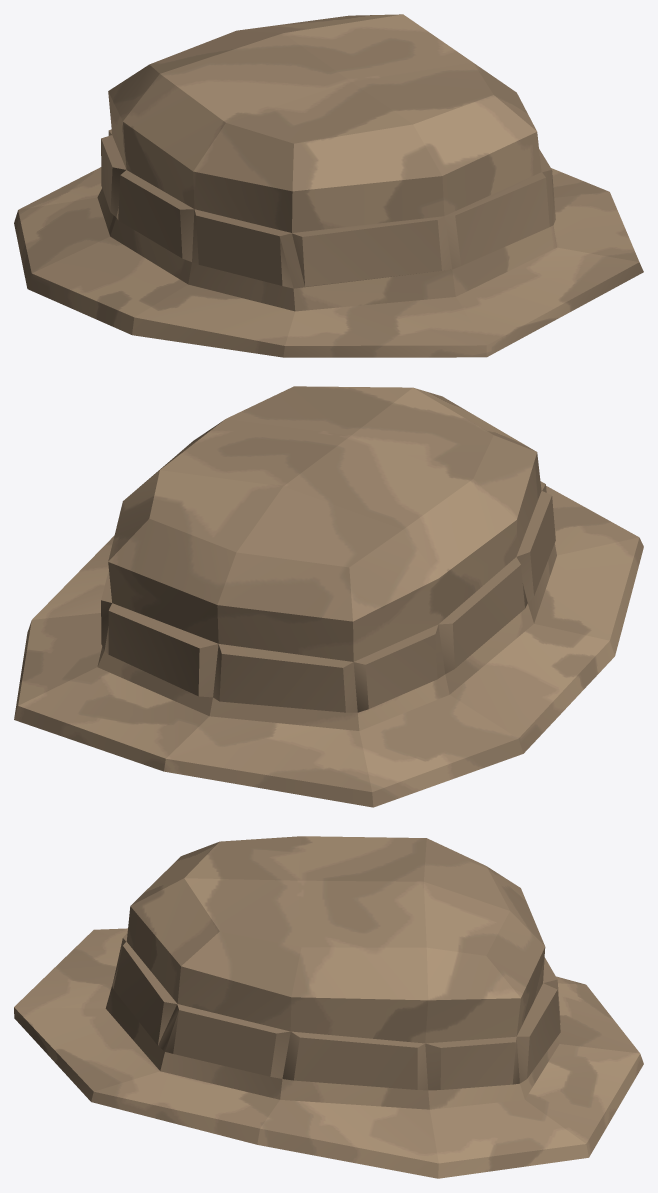
Rendered from Hat_02_SM.FBX.
The picture shows the model from 3 angles, top to bottom: view 1: azimuth 30°, elevation 25°; view 2: azimuth 150°, elevation 25°; view 3: azimuth 270°, elevation 25°; orthographic projection. The views are drawn at different scales.
Parts seen in each view (by area): view 1: Hat_02_SM; view 2: Hat_02_SM; view 3: Hat_02_SM.
Boxes of the visible parts, x1,y1,x2,y2 form: Hat_02_SM: [14, 14, 643, 357]; Hat_02_SM: [14, 386, 643, 807]; Hat_02_SM: [14, 836, 643, 1178].
Size of what is drawn, in the model's own units: 30.2 by 36.01 by 12.53.
